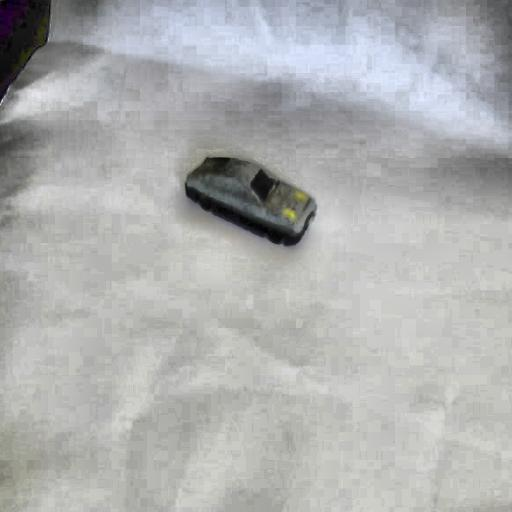normal_car: (182, 152, 317, 247)
